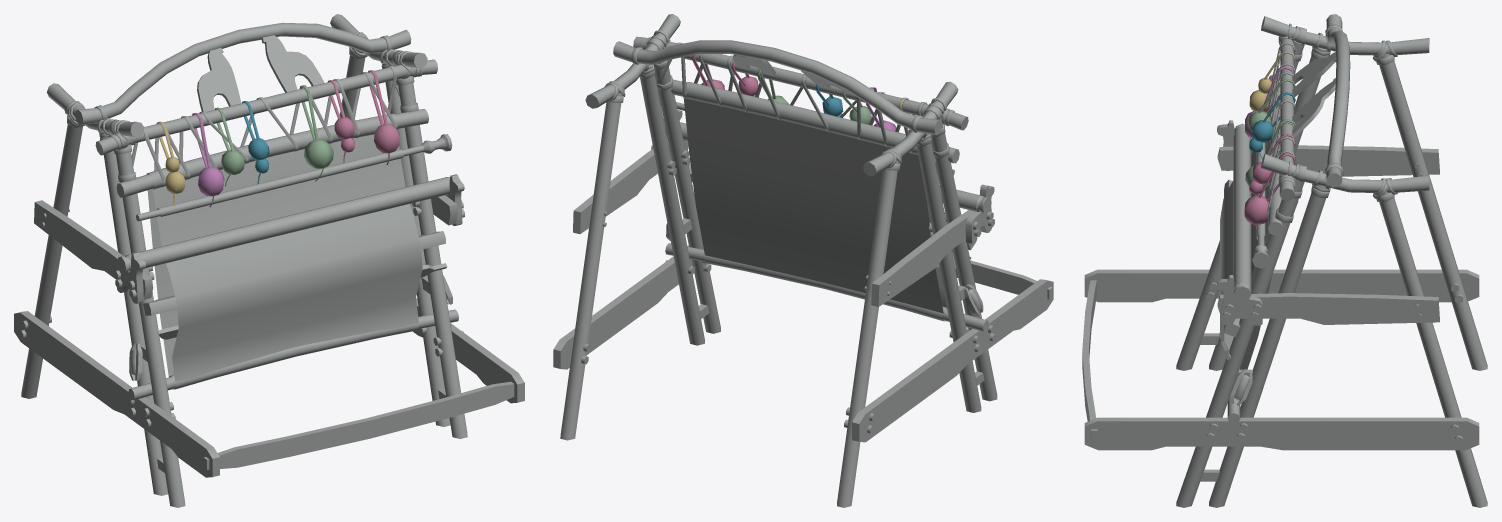
The picture shows the model from 3 angles, left to right: view 1: azimuth 30°, elevation 25°; view 2: azimuth 150°, elevation 25°; view 3: azimuth 270°, elevation 25°; orthographic projection. The views are drawn at different scales.
Visible parts, largest first — view 1: G:\FFXIV-MapTools\exports\y6f1\bg\ex5\02_ykt_y6\fld\y6f1\bgp (×2); view 2: G:\FFXIV-MapTools\exports\y6f1\bg\ex5\02_ykt_y6\fld\y6f1\bgp (×2); view 3: G:\FFXIV-MapTools\exports\y6f1\bg\ex5\02_ykt_y6\fld\y6f1\bgp (×2).
Boxes of the visible parts, bbox=[...] form: G:\FFXIV-MapTools\exports\y6f1\bg\ex5\02_ykt_y6\fld\y6f1\bgp (×2): bbox=[14, 14, 524, 507]; G:\FFXIV-MapTools\exports\y6f1\bg\ex5\02_ykt_y6\fld\y6f1\bgp (×2): bbox=[553, 14, 1053, 507]; G:\FFXIV-MapTools\exports\y6f1\bg\ex5\02_ykt_y6\fld\y6f1\bgp (×2): bbox=[1082, 14, 1487, 507].
Bounding box in the file's own units: 1.86 × 2.01 × 1.95.
